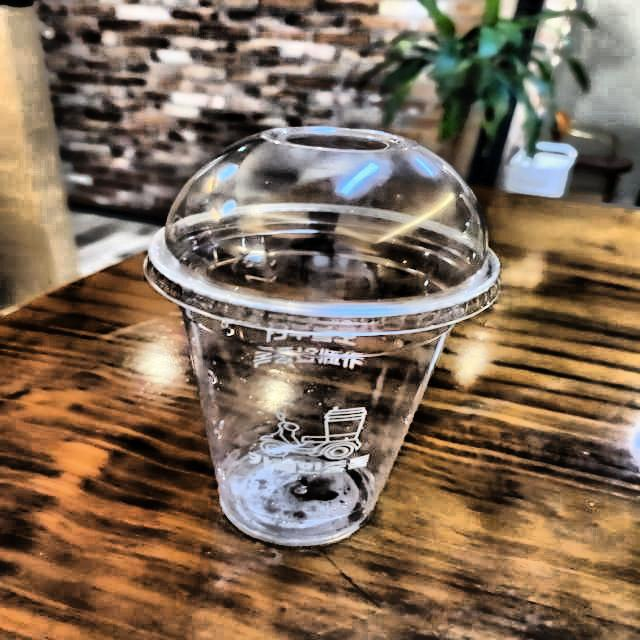plastic cup: (130, 107, 528, 584)
